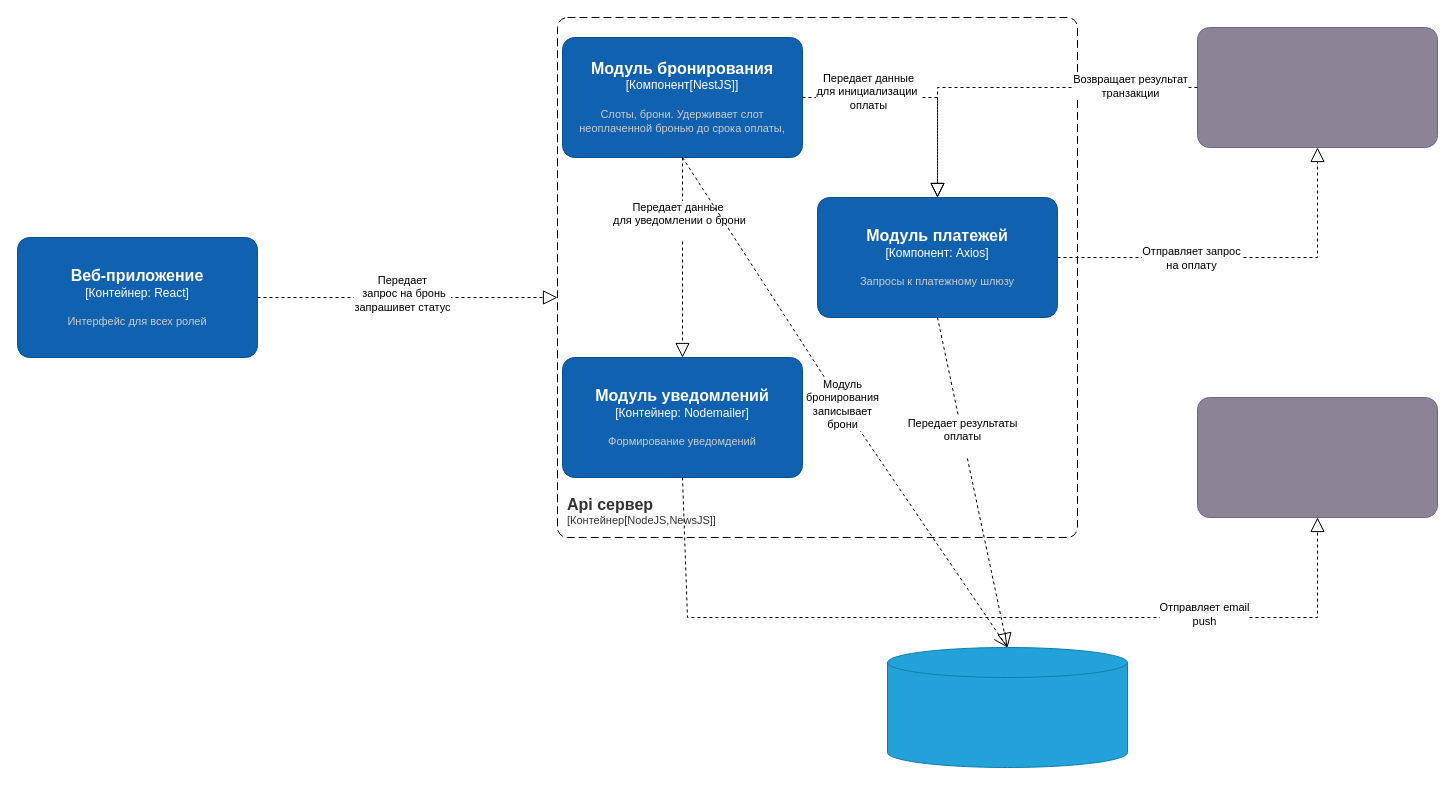
Image size: 1455x785. Some labels were removed from this diagram. The box of each missing label's shape, as (x1, y1, x2, y2) in pixels:
Платежный сервис [Внешняя система] ЮKassa, Robokassa (тестовый режим): (1196, 26, 1438, 148)
Сервис увдеомлений [Внешняя система ] Email, Push: (1196, 396, 1438, 518)
Центральная БД [Container: Контейрнер: PostgresSQL] Бронирвание слотов и запись: (886, 646, 1128, 768)
